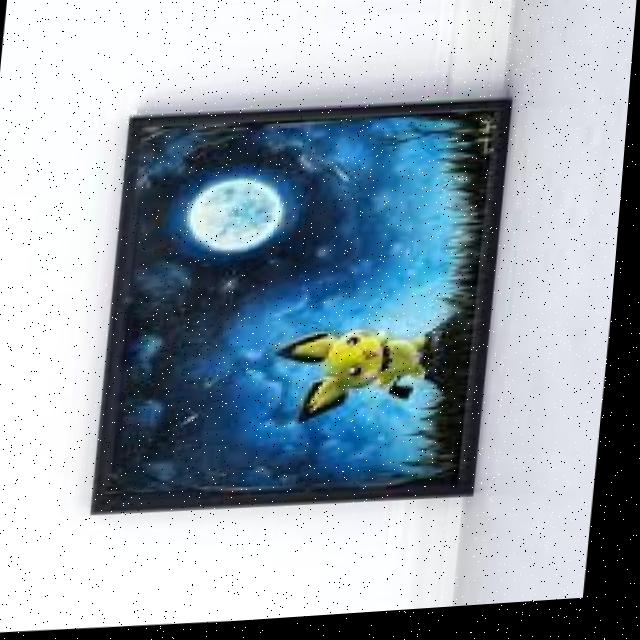pichu: (263, 318, 470, 435)
